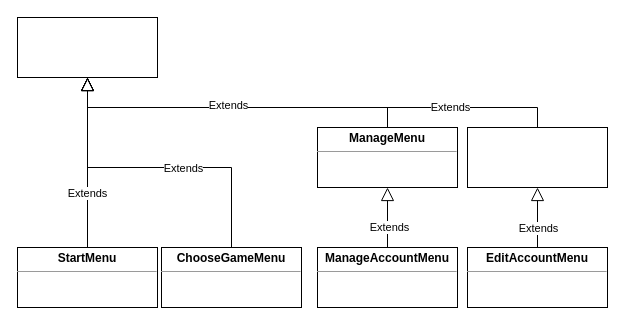
The diagram is 625 pixels wide and 325 high, and some of its shapes have lost their labels. The centre of each missing label's shape, as x and y in pixels:
"EditMenu" belongs at [537,157].
"GenericMenu" belongs at [87,47].
